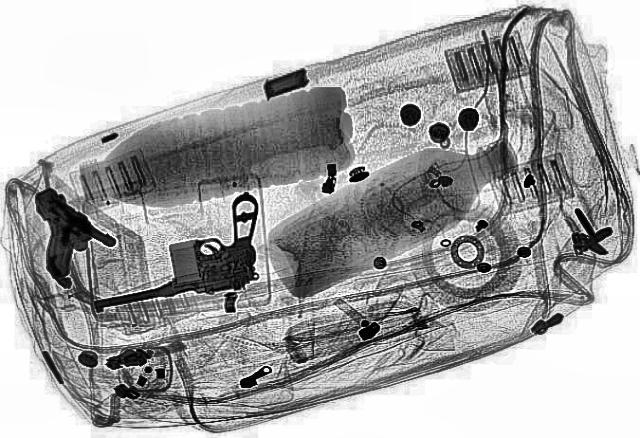Gun: (58, 189, 292, 313), (4, 194, 130, 272)
